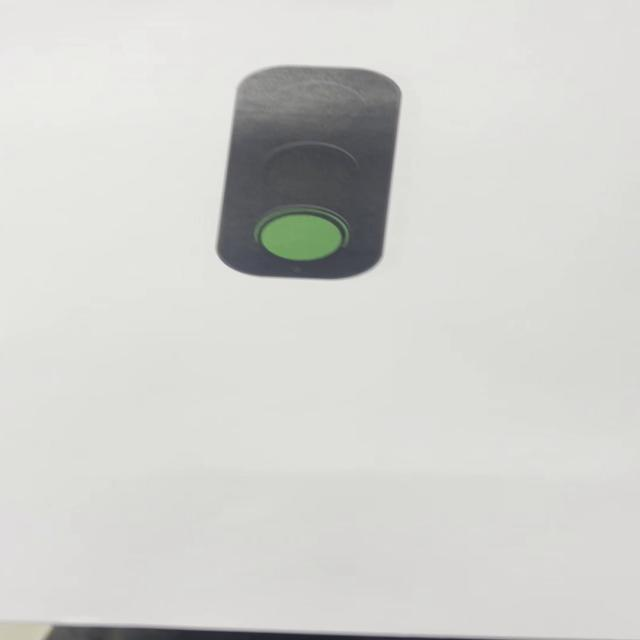green: (213, 63, 407, 283)
